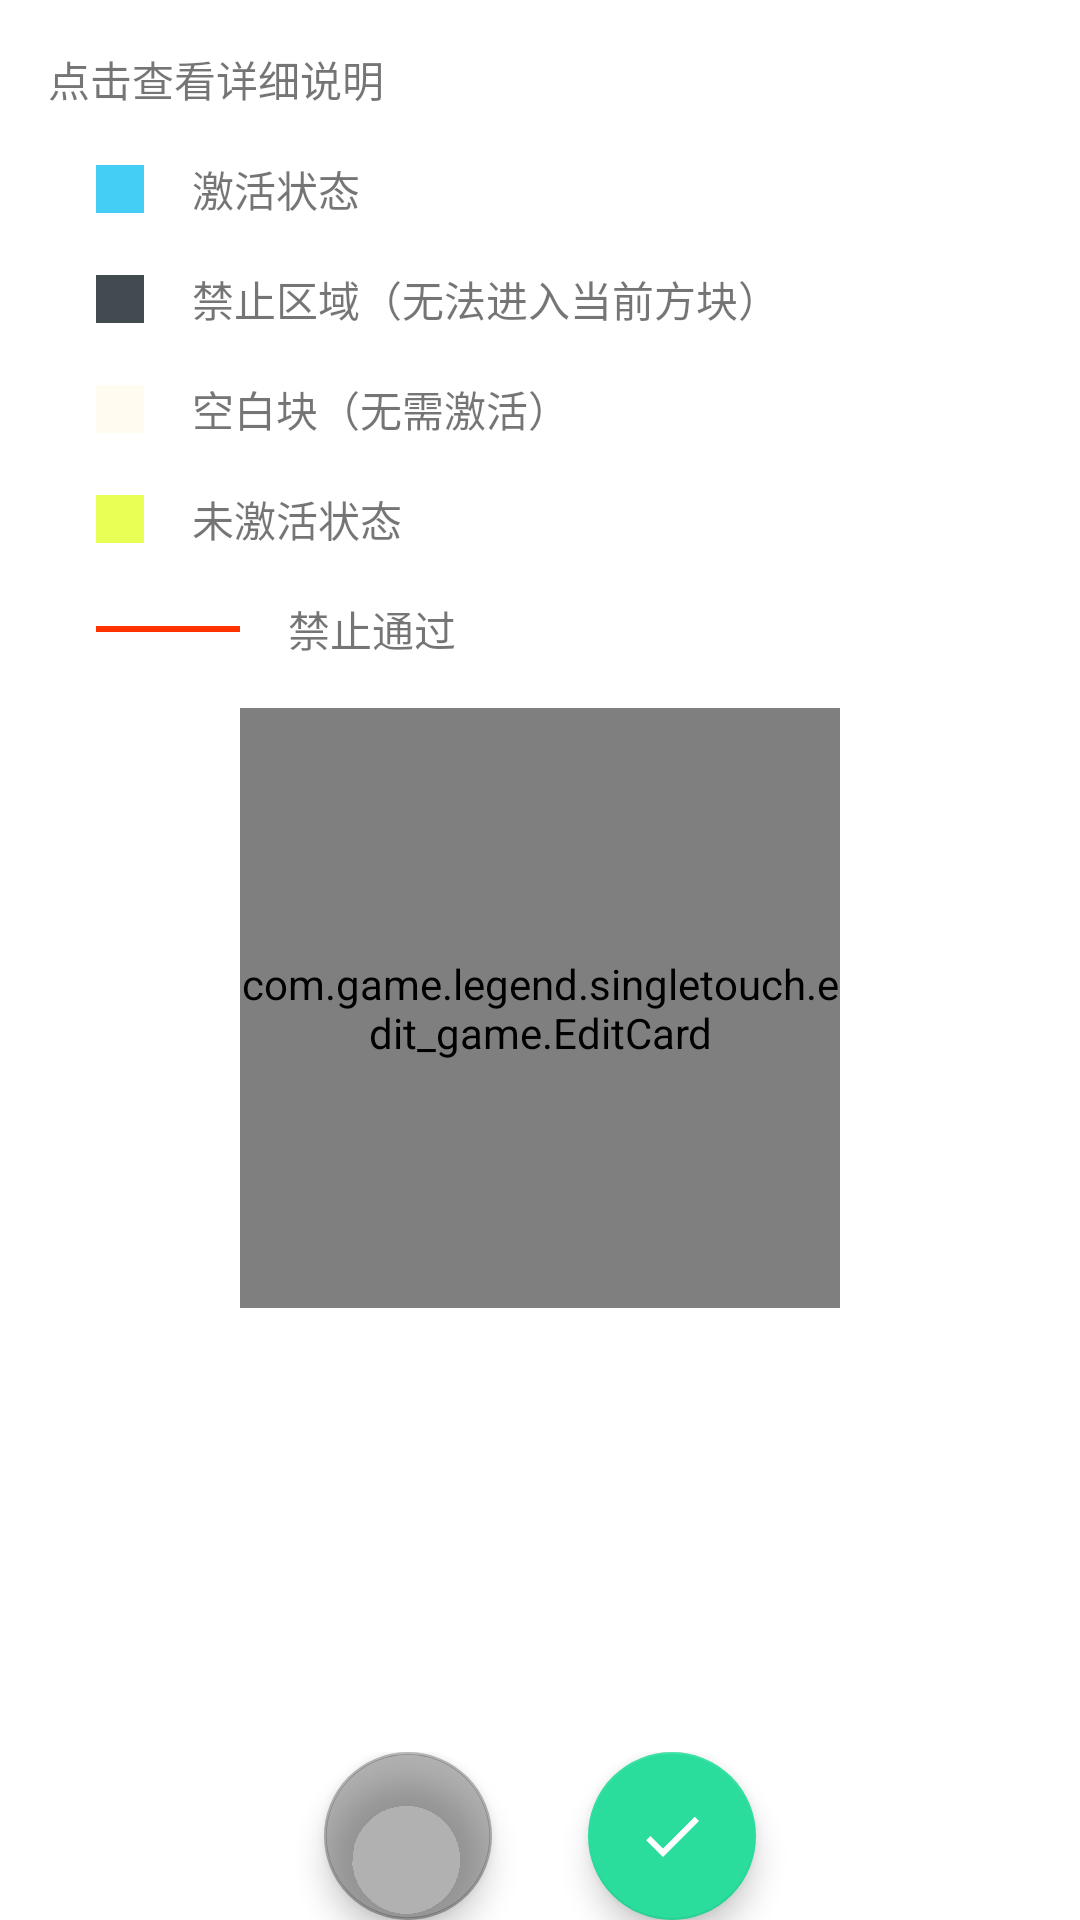

Point at icon controls on the screen. Image size 1080px×1920px, points as (x,y).
done: (672,1836)
